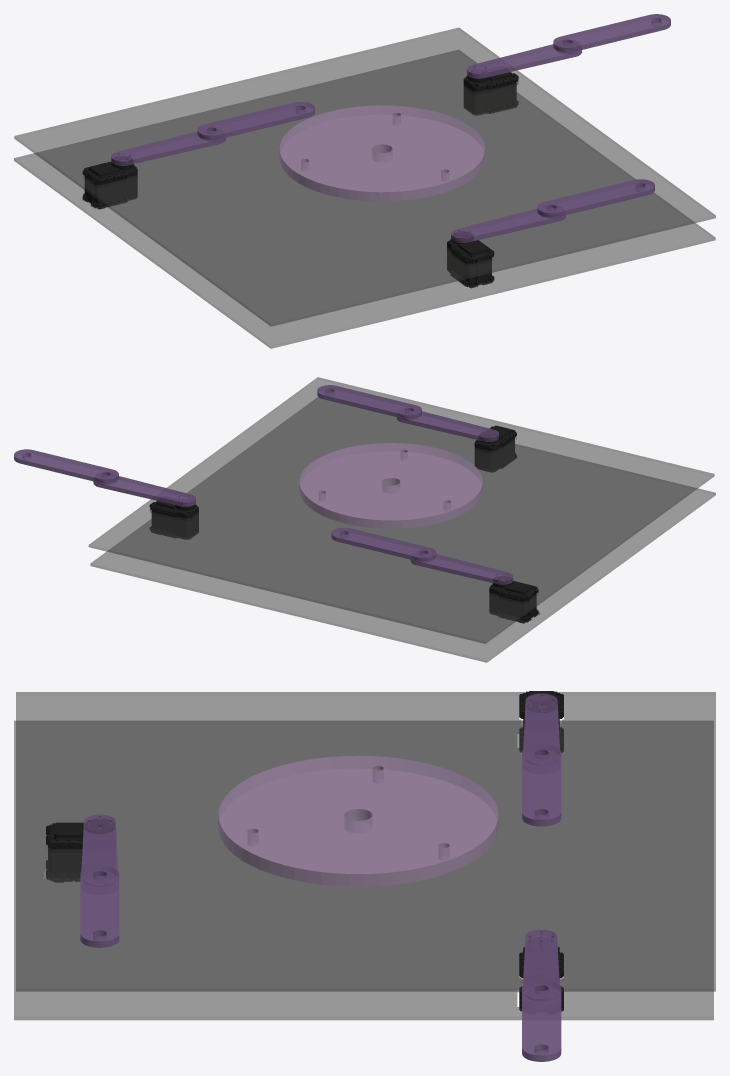
File: ensambleensayo.fbx
3 renders of one model, top to bottom at view 1: azimuth 30°, elevation 25°; view 2: azimuth 150°, elevation 25°; view 3: azimuth 270°, elevation 25°, orthographic. The views are drawn at different scales.
Parts seen in each view (by area): view 1: Ensamble Cero - Base Fija-2, Ensamble Cero - basemovil-1, Ensamble Cero - braso2-3, Ensamble Cero - braso2-2, Ensamble Cero - braso2-1, Ensamble Cero - Motor-3 Motor Base-1, Ensamble Cero - Motor-4 Motor Base-1, Ensamble Cero - Motor-1 Motor Base-1, Ensamble Cero - braso1-2, Ensamble Cero - braso1-3, Ensamble Cero - braso1-1; view 2: Ensamble Cero - Base Fija-2, Ensamble Cero - basemovil-1, Ensamble Cero - braso2-3, Ensamble Cero - braso2-1, Ensamble Cero - braso2-2, Ensamble Cero - Motor-3 Motor Base-1, Ensamble Cero - Motor-4 Motor Base-1, Ensamble Cero - Motor-1 Motor Base-1, Ensamble Cero - braso1-2, Ensamble Cero - braso1-3, Ensamble Cero - braso1-1; view 3: Ensamble Cero - Base Fija-2, Ensamble Cero - basemovil-1, Ensamble Cero - braso2-3, Ensamble Cero - braso2-1, Ensamble Cero - braso2-2, Ensamble Cero - Motor-1 Motor Base-1, Ensamble Cero - braso1-1, Ensamble Cero - braso1-3, Ensamble Cero - braso1-2, Ensamble Cero - Motor-3 Motor Base-1.
Boxes of the visible parts, bbox=[...] form: Ensamble Cero - Base Fija-2: bbox=[14, 27, 715, 348]; Ensamble Cero - basemovil-1: bbox=[279, 105, 484, 201]; Ensamble Cero - braso2-3: bbox=[197, 101, 314, 140]; Ensamble Cero - braso2-2: bbox=[553, 14, 670, 52]; Ensamble Cero - braso2-1: bbox=[537, 179, 654, 217]; Ensamble Cero - Motor-3 Motor Base-1: bbox=[82, 161, 137, 209]; Ensamble Cero - Motor-4 Motor Base-1: bbox=[463, 72, 518, 115]; Ensamble Cero - Motor-1 Motor Base-1: bbox=[447, 239, 494, 287]; Ensamble Cero - braso1-2: bbox=[467, 42, 581, 78]; Ensamble Cero - braso1-3: bbox=[111, 130, 225, 165]; Ensamble Cero - braso1-1: bbox=[451, 207, 565, 242]; Ensamble Cero - Base Fija-2: bbox=[88, 377, 715, 662]; Ensamble Cero - basemovil-1: bbox=[299, 443, 482, 528]; Ensamble Cero - braso2-3: bbox=[331, 527, 436, 561]; Ensamble Cero - braso2-1: bbox=[317, 385, 421, 419]; Ensamble Cero - braso2-2: bbox=[14, 449, 118, 483]; Ensamble Cero - Motor-3 Motor Base-1: bbox=[489, 581, 538, 623]; Ensamble Cero - Motor-4 Motor Base-1: bbox=[149, 500, 198, 539]; Ensamble Cero - Motor-1 Motor Base-1: bbox=[474, 425, 516, 472]; Ensamble Cero - braso1-2: bbox=[93, 474, 195, 506]; Ensamble Cero - braso1-3: bbox=[410, 553, 513, 584]; Ensamble Cero - braso1-1: bbox=[396, 410, 498, 441]; Ensamble Cero - Base Fija-2: bbox=[14, 692, 715, 1020]; Ensamble Cero - basemovil-1: bbox=[218, 755, 498, 886]; Ensamble Cero - braso2-3: bbox=[522, 744, 561, 826]; Ensamble Cero - braso2-1: bbox=[80, 865, 119, 947]; Ensamble Cero - braso2-2: bbox=[522, 980, 561, 1061]; Ensamble Cero - Motor-1 Motor Base-1: bbox=[46, 822, 83, 882]; Ensamble Cero - braso1-1: bbox=[81, 814, 118, 876]; Ensamble Cero - braso1-3: bbox=[523, 693, 559, 755]; Ensamble Cero - braso1-2: bbox=[523, 929, 559, 990]; Ensamble Cero - Motor-3 Motor Base-1: bbox=[519, 691, 563, 752].
Size of the model in its own units: 19.14 by 1.62 by 14.43.
